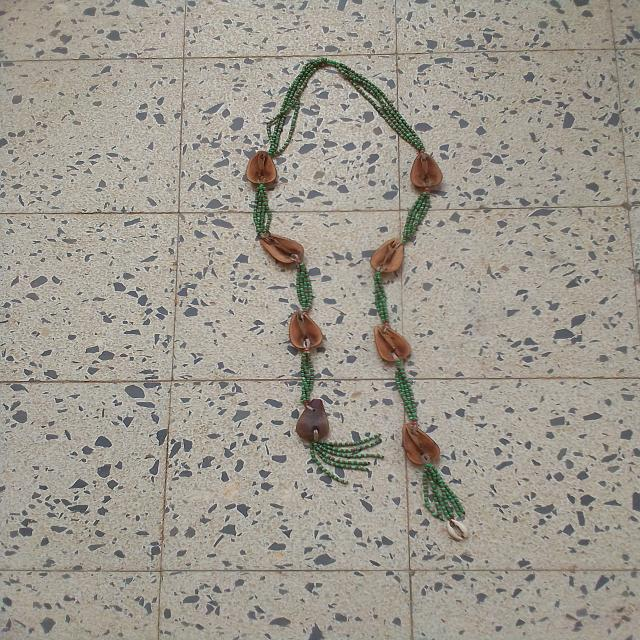facedown: (295, 397, 333, 445)
faceup: (401, 422, 443, 468), (371, 321, 415, 364), (257, 232, 308, 267), (242, 148, 281, 189), (288, 308, 324, 352), (369, 236, 406, 276), (408, 152, 444, 192)
